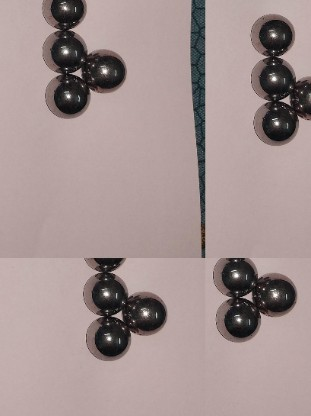ironball: (242, 51, 297, 105), (248, 92, 302, 147), (207, 296, 263, 349), (40, 71, 92, 123), (82, 314, 133, 366), (249, 268, 303, 315), (207, 258, 263, 298), (79, 48, 128, 93), (251, 15, 303, 55), (43, 30, 88, 75), (123, 293, 170, 333), (82, 275, 131, 311), (42, 0, 92, 26), (78, 254, 139, 274)
